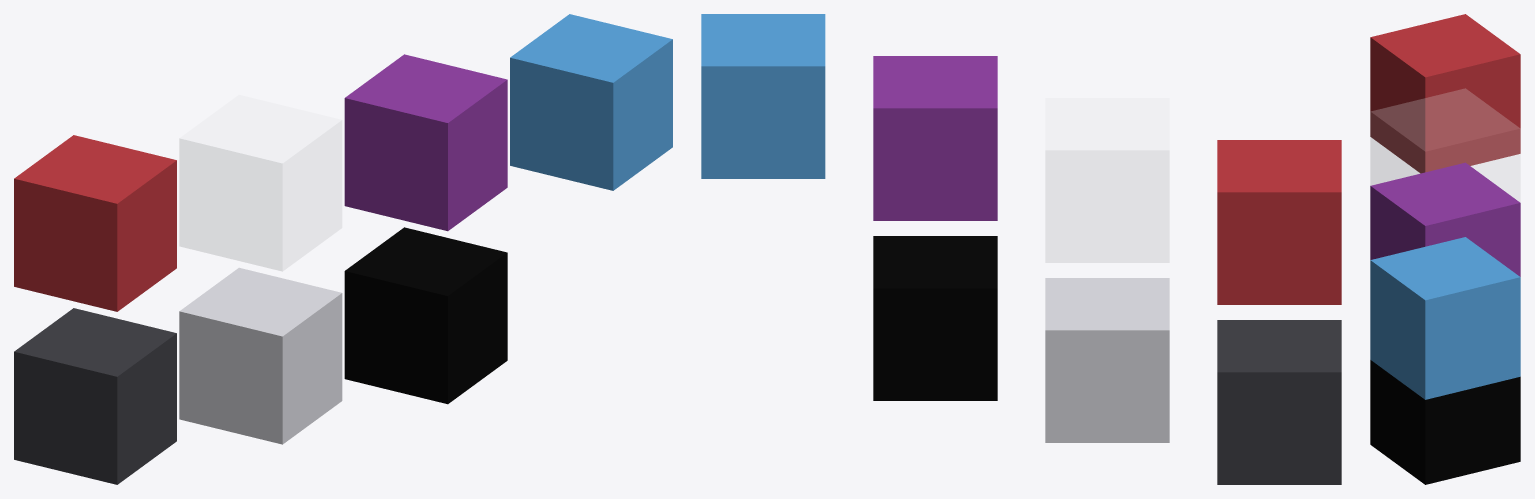
Rendered from layered.cz.glb.
3 renders of one model, left to right at view 1: azimuth 30°, elevation 25°; view 2: azimuth 150°, elevation 25°; view 3: azimuth 270°, elevation 25°, orthographic. The views are drawn at different scales.
Visible parts, largest first — view 1: velvet_node, brushed_steel_node, lacquer_node, object 1, soap_film_node, plastic_node, glass_node; view 2: object 1, glass_node, velvet_node, plastic_node, soap_film_node, brushed_steel_node, lacquer_node; view 3: plastic_node, object 1, lacquer_node, velvet_node, glass_node.
Part boxes in pixels (box(x1,y1,x2,y2)): velvet_node: box(344, 54, 507, 231); brushed_steel_node: box(179, 267, 342, 444); lacquer_node: box(344, 227, 507, 404); object 1: box(14, 135, 176, 311); soap_film_node: box(14, 308, 176, 484); plastic_node: box(510, 14, 672, 190); glass_node: box(179, 95, 341, 271); object 1: box(1217, 140, 1341, 304); glass_node: box(1045, 98, 1169, 262); velvet_node: box(873, 56, 997, 220); plastic_node: box(701, 14, 825, 178); soap_film_node: box(1217, 320, 1341, 484); brushed_steel_node: box(1045, 278, 1169, 442); lacquer_node: box(873, 236, 997, 400); plastic_node: box(1370, 237, 1520, 399); object 1: box(1370, 14, 1520, 173); lacquer_node: box(1370, 360, 1520, 484); velvet_node: box(1370, 162, 1520, 276); glass_node: box(1370, 88, 1520, 201).
Size of the model in its own units: 6.17 by 2.6 by 1.37.
